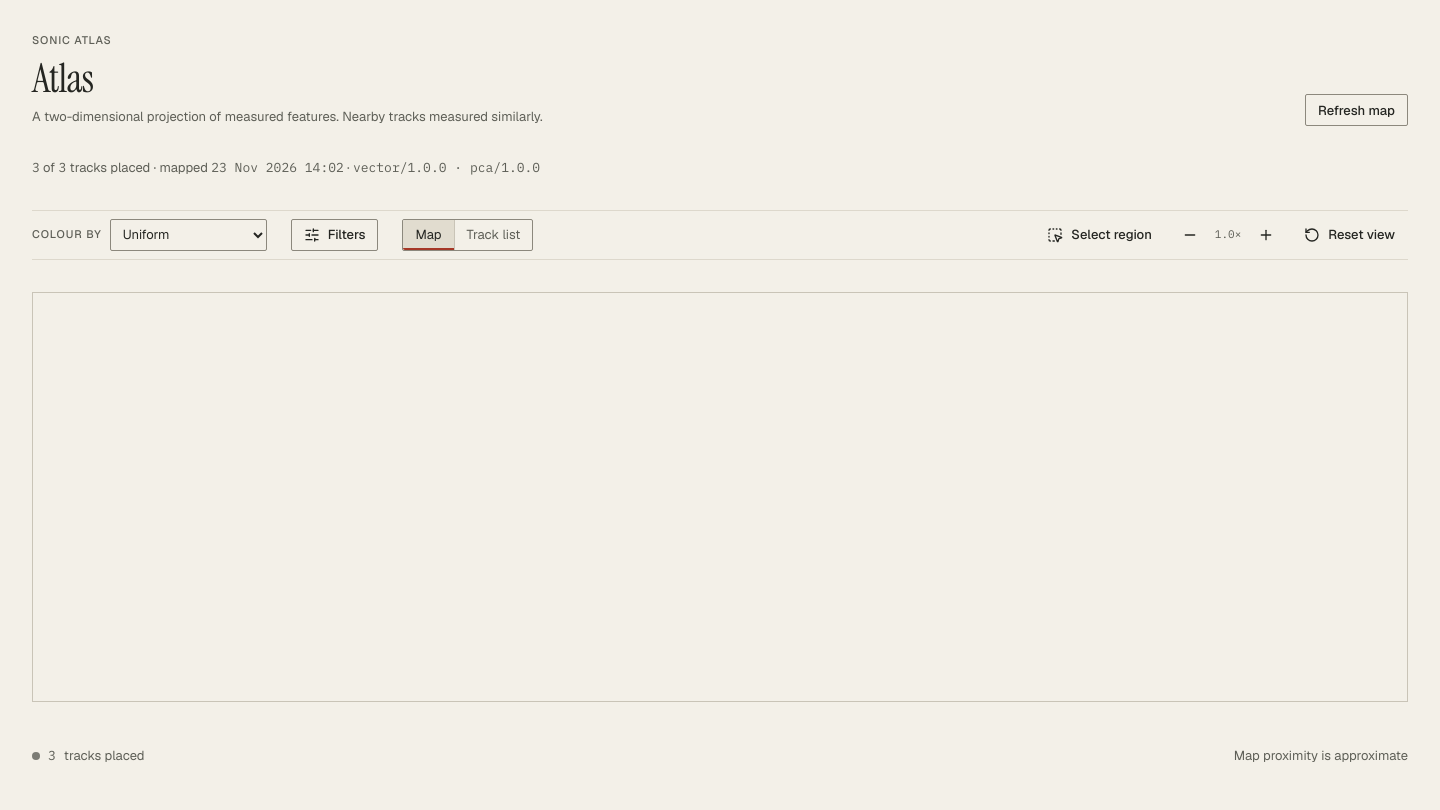
Test: AtlasPage › filters by tempo, explains unmeasured tracks and drops hidden selections
This screenshot has width=1440, height=810.
Expected: the element named "Sonic Atlas map. Arrow keys pan, plus and minus zoom, Home r" is shown, [32,292,1408,702]
Click the radio button labelled "Track list": [493, 234] box [454,220,532,250]
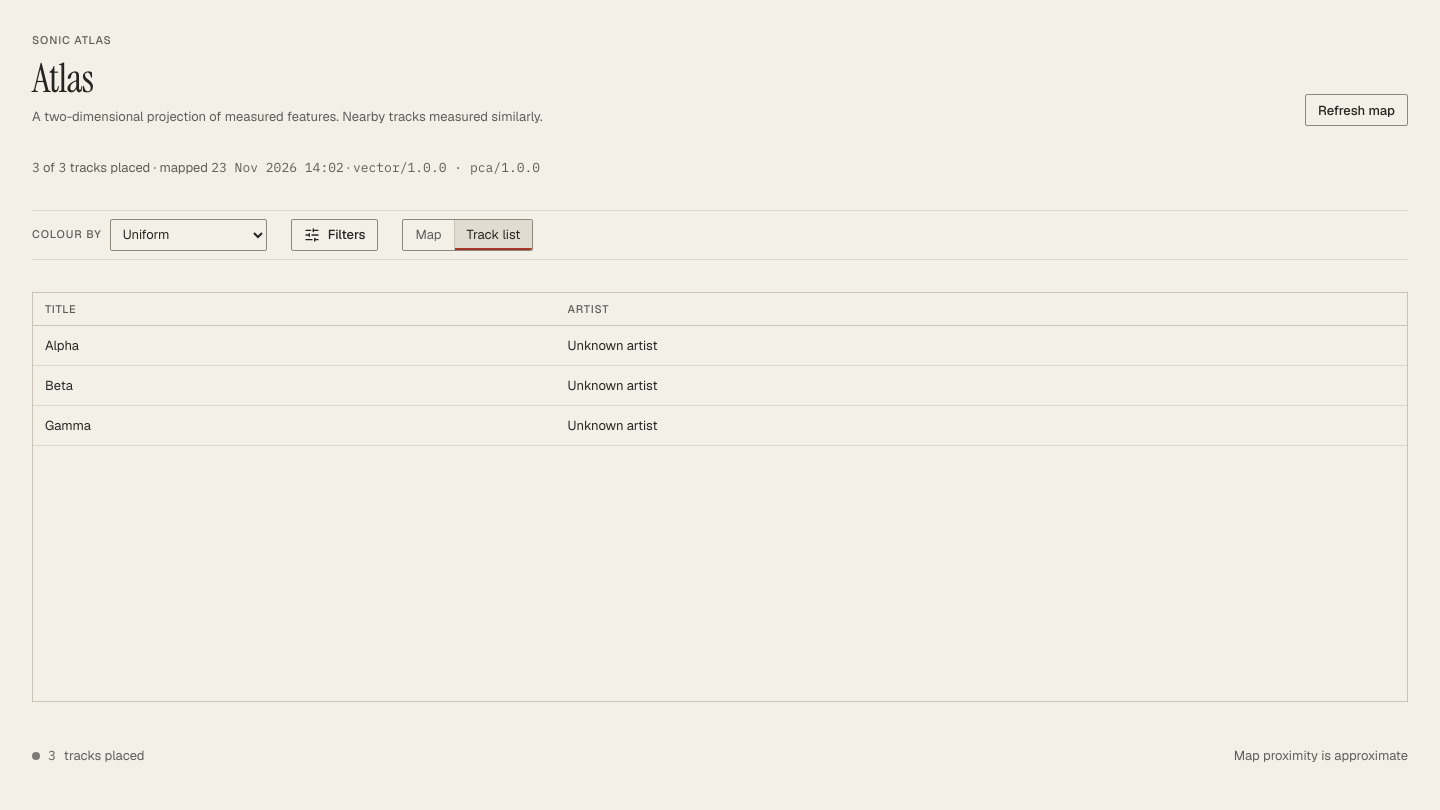
Click the button "Gamma": [68, 426] box [45,416,91,435]
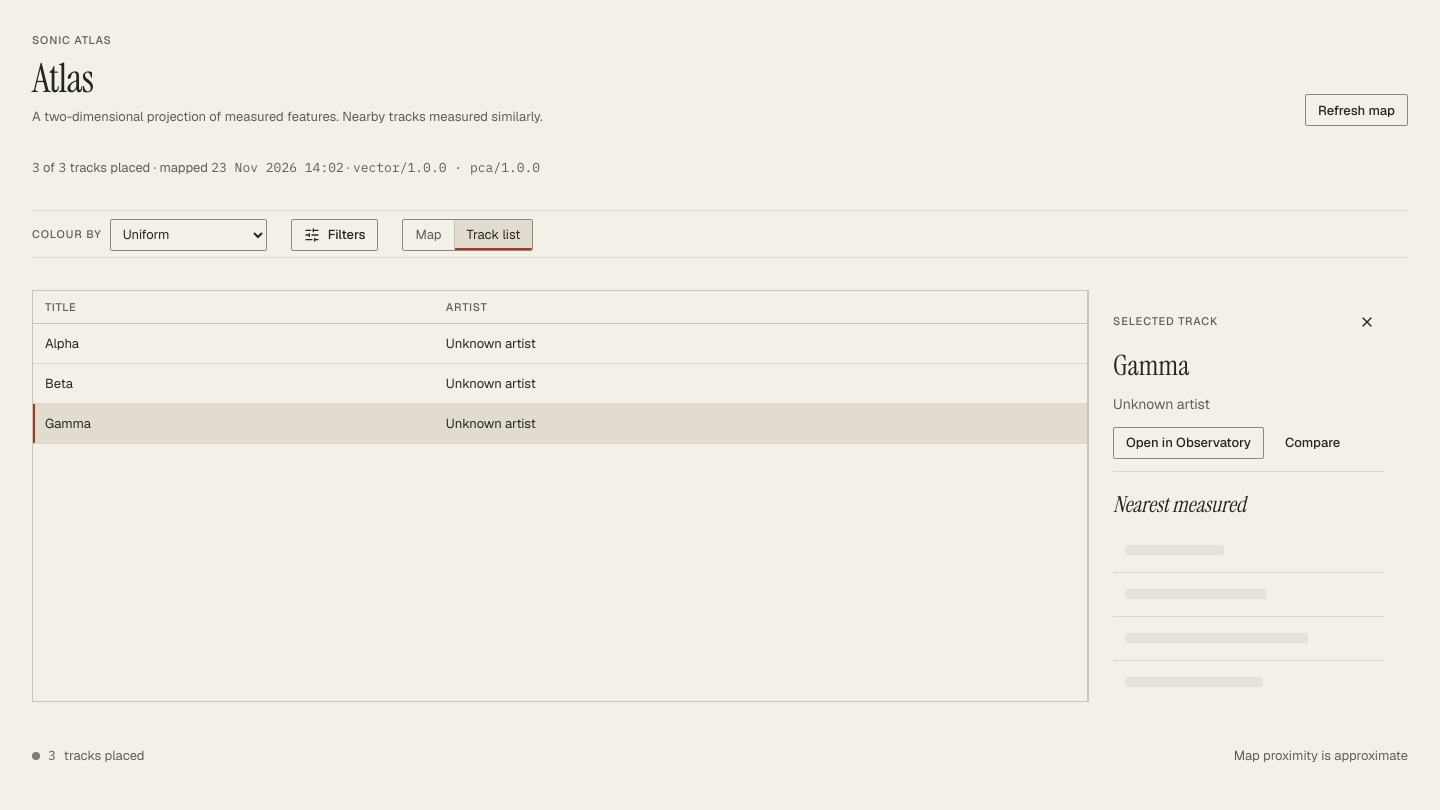
Expected: the element named "Selected: Gamma" is shown, [1088,290,1408,702]
Click the button "Filters": [334, 234] box [291,218,378,250]
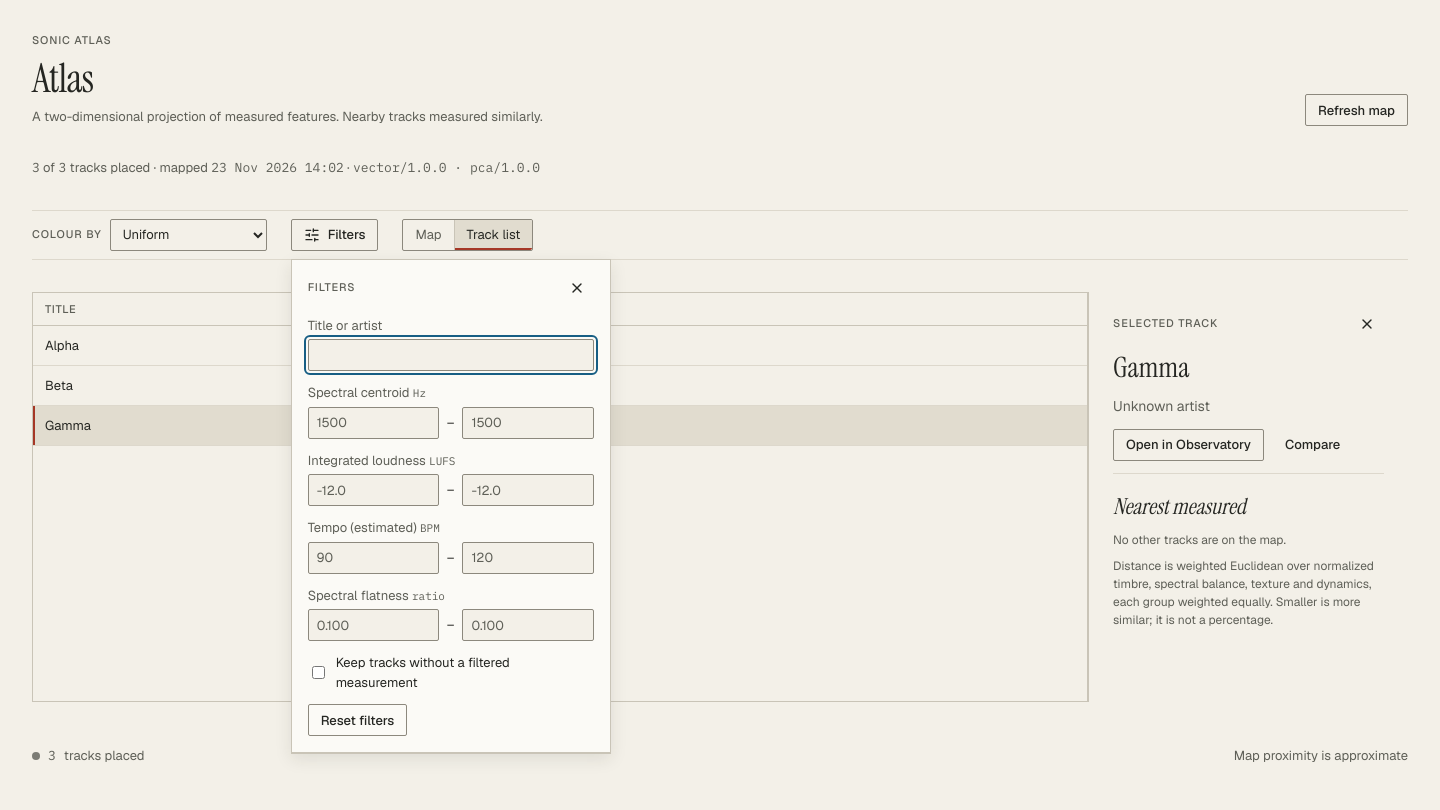
In the field named "Tempo (estimated) minimum, BPM": [373, 558] box [308,542,439,574], type "100"
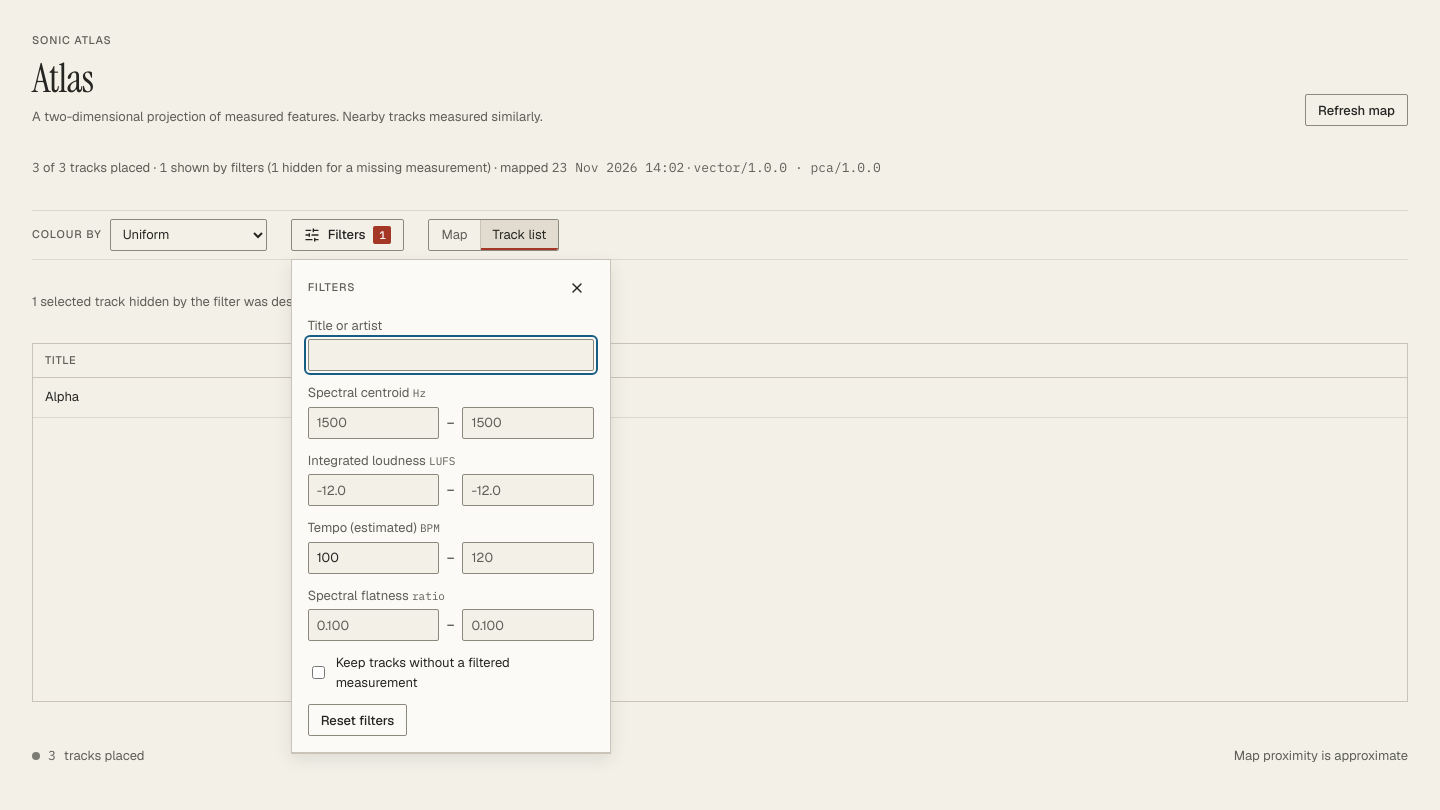
Expected: the button "Alpha" is shown, [45,387,79,407]
Expected: the text "shown by filters" is shown, [167,159,264,176]
Expected: the text "hidden for a missing" is shown, [279,159,491,176]
